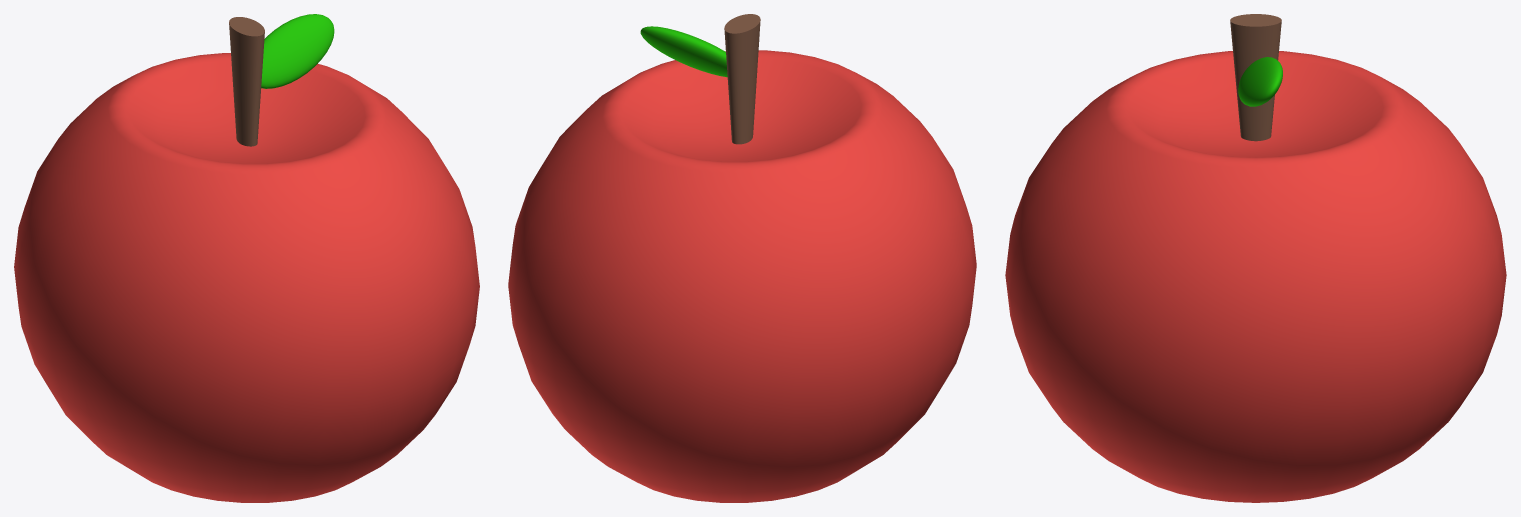
Rendered from apple.fbx.
3 renders of one model, left to right at view 1: azimuth 30°, elevation 25°; view 2: azimuth 150°, elevation 25°; view 3: azimuth 270°, elevation 25°, orthographic.
Parts seen in each view (by area): view 1: 球, 球.001, 円柱; view 2: 球, 円柱, 球.001; view 3: 球, 円柱, 球.001.
Part boxes in pixels (x1,y1,x2,y2): 球: (14, 53, 479, 502); 球.001: (261, 14, 334, 88); 円柱: (229, 17, 264, 146); 球: (508, 50, 976, 502); 円柱: (724, 14, 760, 144); 球.001: (640, 26, 727, 77); 球: (1005, 51, 1506, 502); 円柱: (1230, 14, 1281, 141); 球.001: (1238, 57, 1282, 106).
Size of the model in its own units: 186 by 199 by 200.
